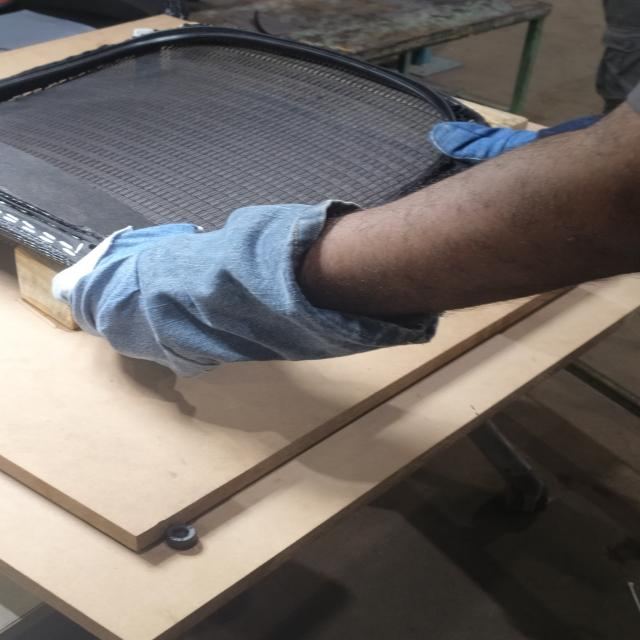Gloves-Detection: (66, 206, 384, 369), (441, 121, 532, 153)
